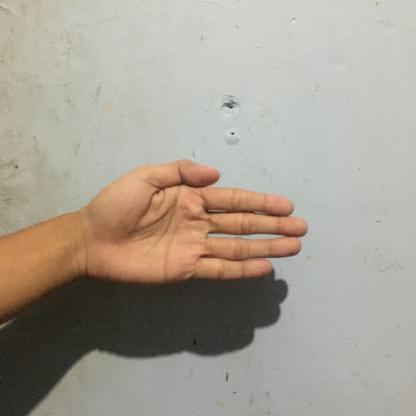ready: (30, 149, 315, 311)
